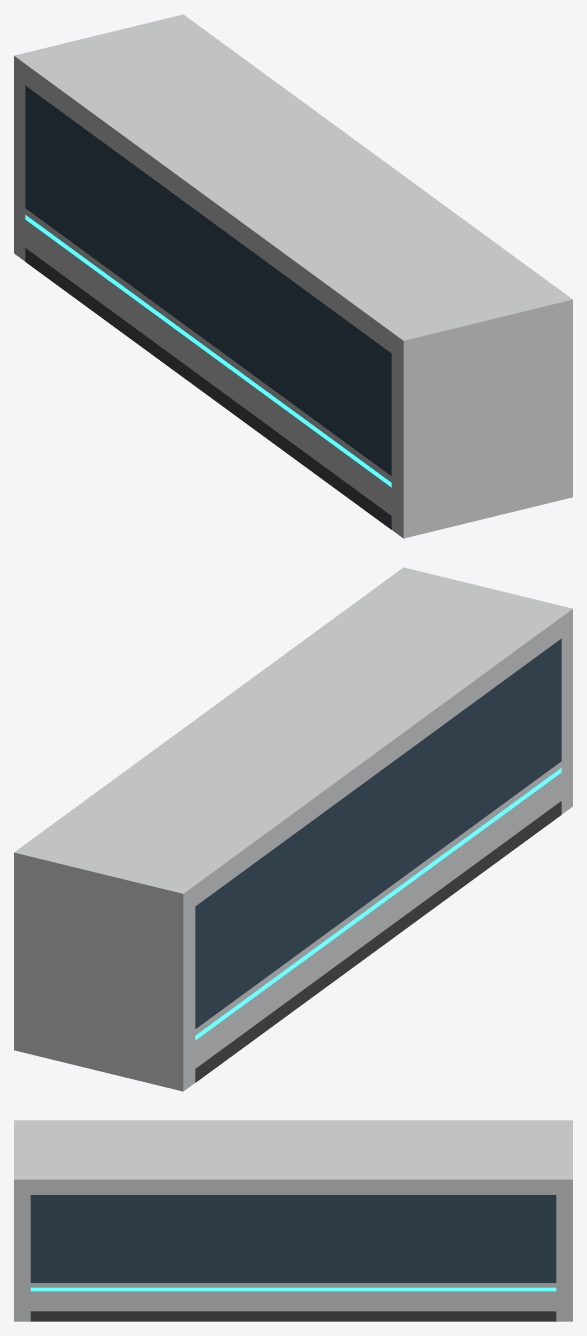
Rendered from middle_1_far.fbx.
3 views of the same model, one above another, from view 1: azimuth 30°, elevation 25°; view 2: azimuth 150°, elevation 25°; view 3: azimuth 270°, elevation 25° (orthographic). The views are drawn at different scales.
Visible parts, largest first — view 1: 14_middle_1_far; view 2: 14_middle_1_far; view 3: 14_middle_1_far.
Part boxes in pixels (<box>): 14_middle_1_far: <box>14,14,572,538</box>; 14_middle_1_far: <box>14,567,572,1091</box>; 14_middle_1_far: <box>14,1120,572,1321</box>.
Size of the model in its own units: 2.52 by 2.8 by 10.
